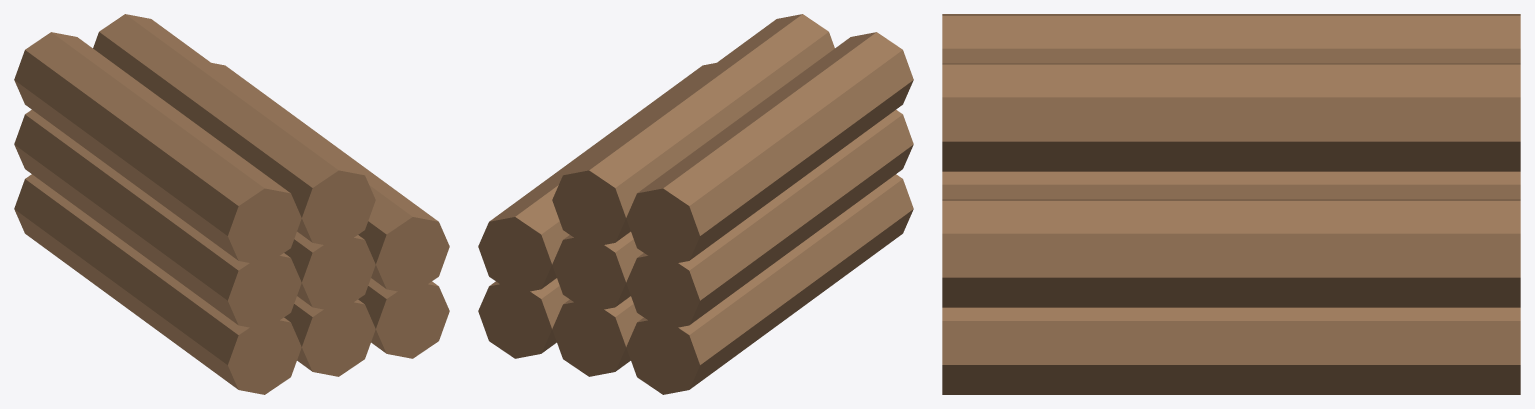
Rendered from firewood_stack.glb.
3 views of the same model, side by side, from view 1: azimuth 30°, elevation 25°; view 2: azimuth 150°, elevation 25°; view 3: azimuth 270°, elevation 25° (orthographic). The views are drawn at different scales.
Visible parts, largest first — view 1: firewood_stack; view 2: firewood_stack; view 3: firewood_stack.
Part boxes in pixels (box(x1,y1,x2,y2)): firewood_stack: box(14, 14, 449, 394); firewood_stack: box(478, 14, 913, 394); firewood_stack: box(942, 14, 1520, 394).
Size of the model in its own units: 0.9 by 0.8 by 1.5.
